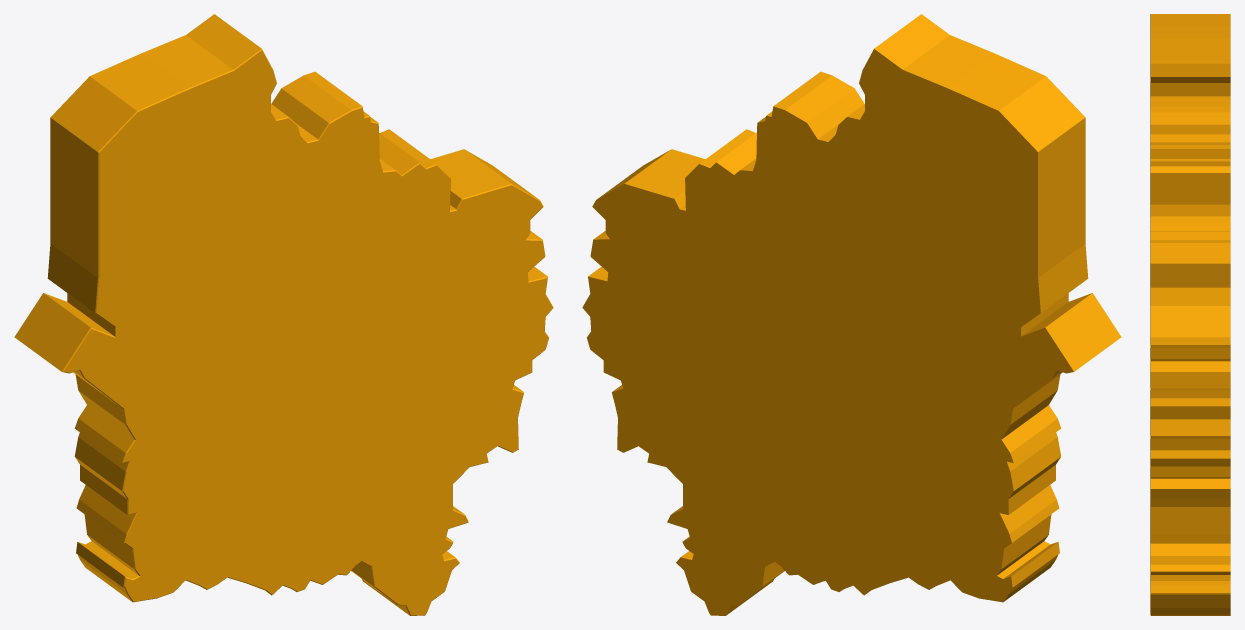
The model's file is HautsDeFrance.glb.
3 renders of one model, left to right at view 1: azimuth 30°, elevation 25°; view 2: azimuth 150°, elevation 25°; view 3: azimuth 270°, elevation 25°, orthographic. The views are drawn at different scales.
Visible parts, largest first — view 1: Hauts-de-France; view 2: Hauts-de-France; view 3: Hauts-de-France.
Part boxes in pixels (x1,y1,x2,y2): Hauts-de-France: (14, 14, 553, 615); Hauts-de-France: (582, 14, 1121, 615); Hauts-de-France: (1150, 14, 1230, 615).
Bounding box in the file's own units: 0.7602 × 0.8961 × 0.1283.
